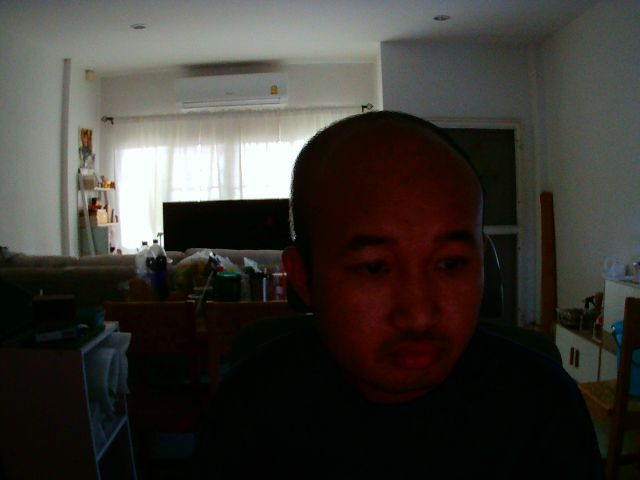face: (287, 103, 483, 392)
